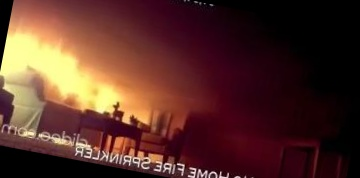fire: (0, 21, 165, 125)
